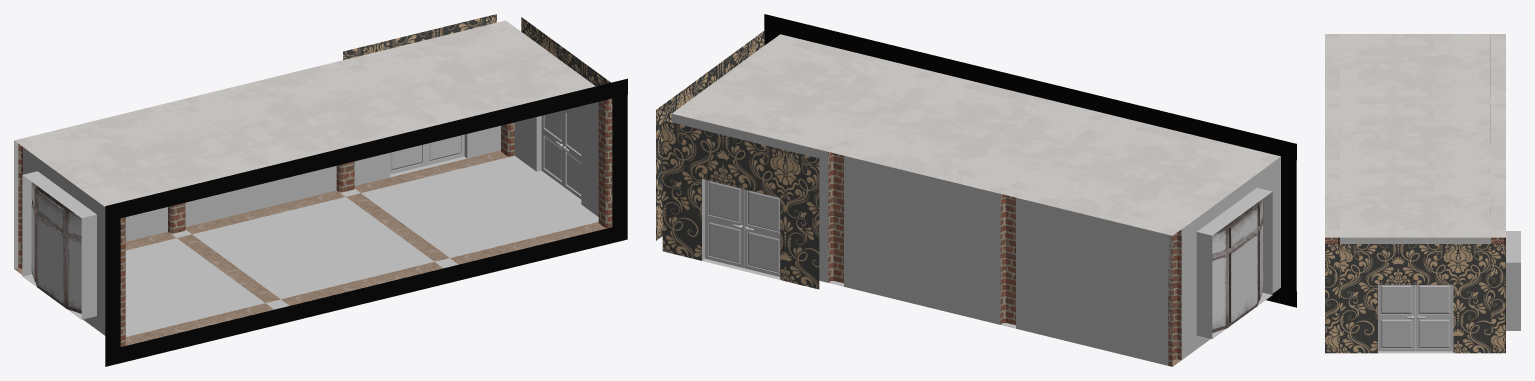
Rendered from Firstfloor_frontroom_left.fbx.
3 renders of one model, left to right at view 1: azimuth 30°, elevation 25°; view 2: azimuth 150°, elevation 25°; view 3: azimuth 270°, elevation 25°, orthographic. The views are drawn at different scales.
Visible parts, largest first — view 1: Floor_mainfloor.005, Floor_mainfloor.006, Ceiling_mainfloor.006, Ceiling_mainfloor.004, Ceiling_mainfloor.005, Wall_Window_Mainroom.003, Floor_mainfloor.004, Wall_mainfloor.011, Wall_mainfloor.024, Wall_mainfloor.026, Wall_mainfloor.012, Transition_Floor.013 (+26 smaller); view 2: Wall_mainfloor.024, Wall_mainfloor.023, Wall_mainfloor.026, Ceiling_mainfloor.004, Ceiling_mainfloor.006, Ceiling_mainfloor.005, Wall_Window_Mainroom.003, Wall_mainfloor.025, Transition_Floor.003, Transition_Floor.013, Transition_Floor.012, Transition_wall.013 (+14 smaller); view 3: Wall_mainfloor.011, Ceiling_mainfloor.004, Ceiling_mainfloor.005, Ceiling_mainfloor.006, Wall_mainfloor.012, Cube.125, Cube.126, Wall_mainfloor.026, Cube.037, Cube.047, Cube.043, Cube.048 (+4 smaller).
Part boxes in pixels (x1,y1,x2,y2): Floor_mainfloor.005: [192, 197, 434, 299]; Floor_mainfloor.006: [361, 155, 598, 257]; Ceiling_mainfloor.006: [361, 27, 595, 123]; Ceiling_mainfloor.004: [23, 109, 257, 206]; Ceiling_mainfloor.005: [192, 68, 426, 164]; Wall_Window_Mainroom.003: [22, 147, 105, 335]; Floor_mainfloor.004: [125, 238, 264, 336]; Wall_mainfloor.011: [514, 23, 610, 216]; Wall_mainfloor.024: [185, 166, 336, 226]; Wall_mainfloor.026: [343, 14, 500, 185]; Wall_mainfloor.012: [541, 110, 581, 199]; Transition_Floor.013: [458, 82, 612, 135]; Wall_mainfloor.024: [844, 156, 1000, 324]; Wall_mainfloor.023: [1016, 197, 1172, 365]; Wall_mainfloor.026: [662, 114, 828, 289]; Ceiling_mainfloor.004: [1025, 125, 1271, 228]; Ceiling_mainfloor.006: [681, 41, 927, 144]; Ceiling_mainfloor.005: [853, 83, 1099, 186]; Wall_Window_Mainroom.003: [1181, 163, 1272, 359]; Wall_mainfloor.025: [705, 179, 780, 276]; Transition_Floor.003: [1124, 102, 1281, 156]; Transition_Floor.013: [780, 18, 936, 72]; Transition_Floor.012: [952, 60, 1108, 114]; Transition_wall.013: [1281, 156, 1296, 291]; Wall_mainfloor.011: [1340, 237, 1490, 353]; Ceiling_mainfloor.004: [1340, 34, 1490, 97]; Ceiling_mainfloor.005: [1340, 104, 1490, 167]; Ceiling_mainfloor.006: [1340, 174, 1490, 237]; Wall_mainfloor.012: [1378, 285, 1452, 351]; Cube.125: [1325, 244, 1339, 353]; Cube.126: [1491, 244, 1505, 353]; Wall_mainfloor.026: [1506, 231, 1520, 330]; Cube.037: [1340, 97, 1490, 103]; Cube.047: [1340, 167, 1490, 173]; Cube.043: [1325, 34, 1339, 97]; Cube.048: [1325, 104, 1339, 167].
Size of the model in its own units: 1706 by 500 by 650.
